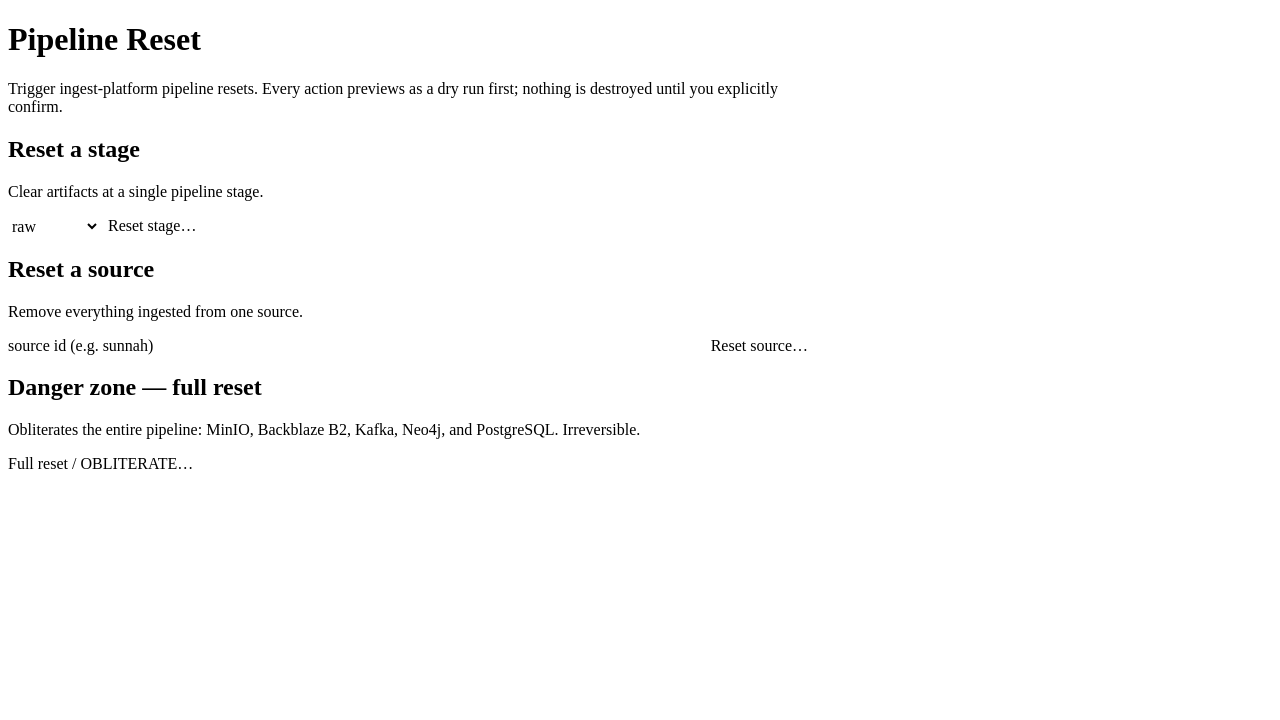
Test: ResetPage › keeps the OBLITERATE button disabled until the exact word is typed
Click the button "Full reset / OBLITERATE…" at x=101, y=464, box [8,455,193,473]
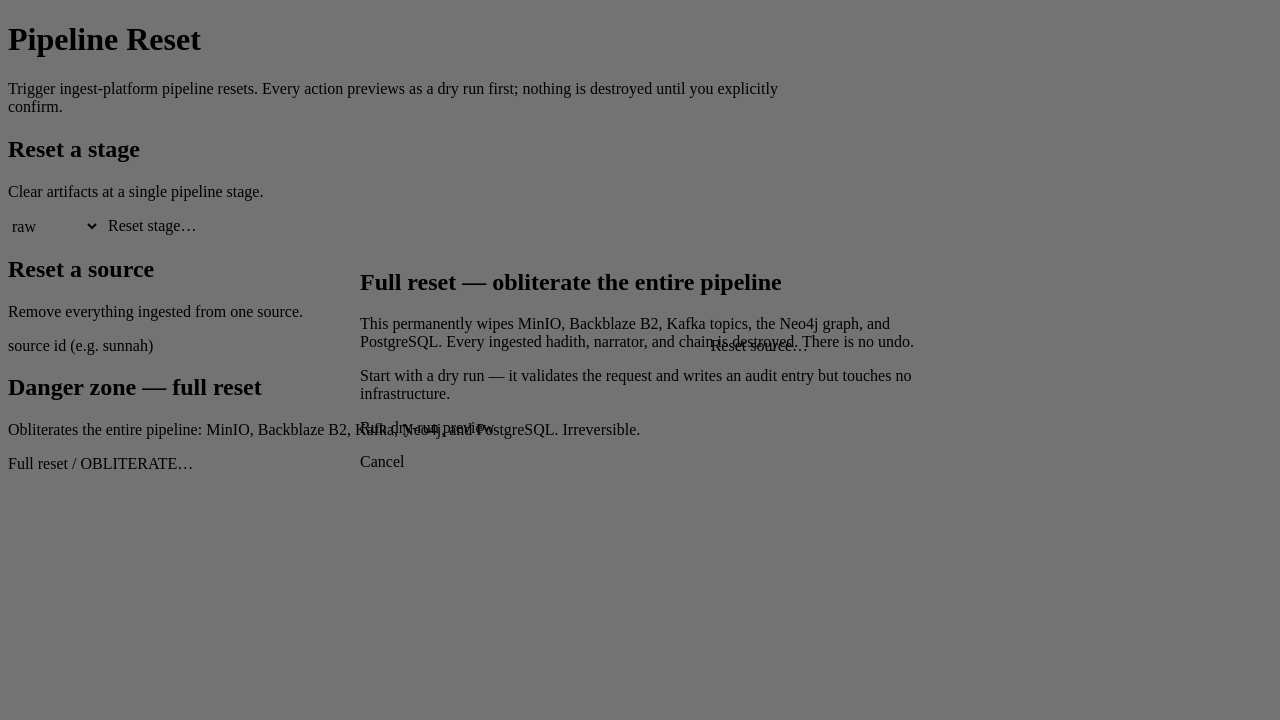
Click the button "Run dry-run preview" at x=427, y=428, box [360,419,494,437]
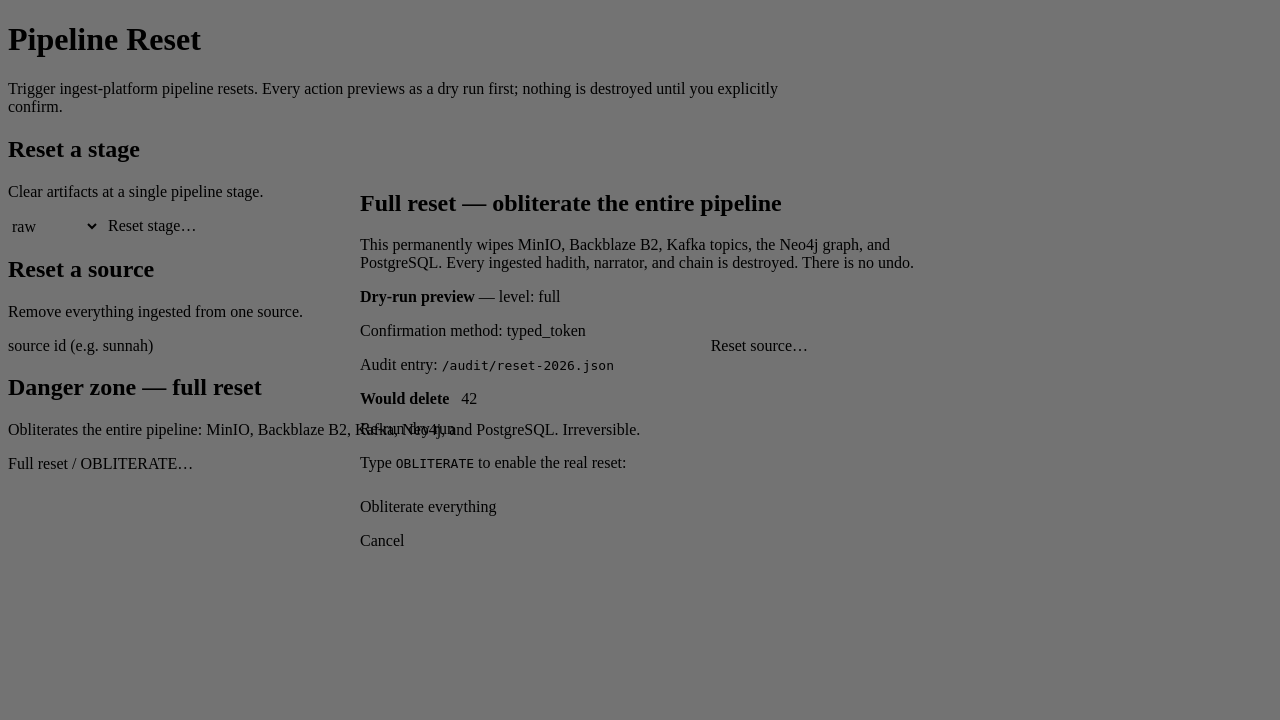
Check: the text "Dry-run preview" is shown, box [360,288,475,305]
Check: the button "Obliterate everything" is disabled, box [360,498,496,516]
Type "obliterate" into the field named "Type OBLITERATE to confirm" at x=640, y=481, box [360,472,920,490]
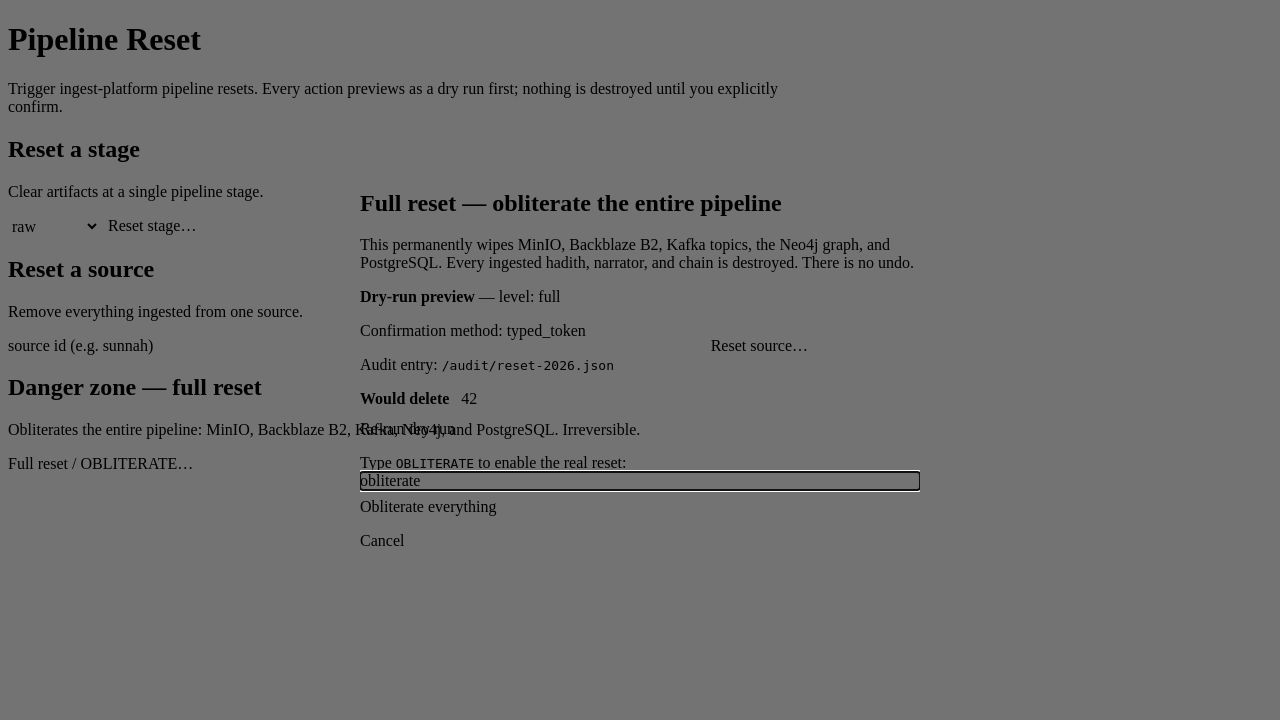
Check: the button "Obliterate everything" is disabled, box [360,498,496,516]
Replace the text in the field named "Type OBLITERATE to confirm" with "OBLITERATE" at x=640, y=481, box [360,472,920,490]
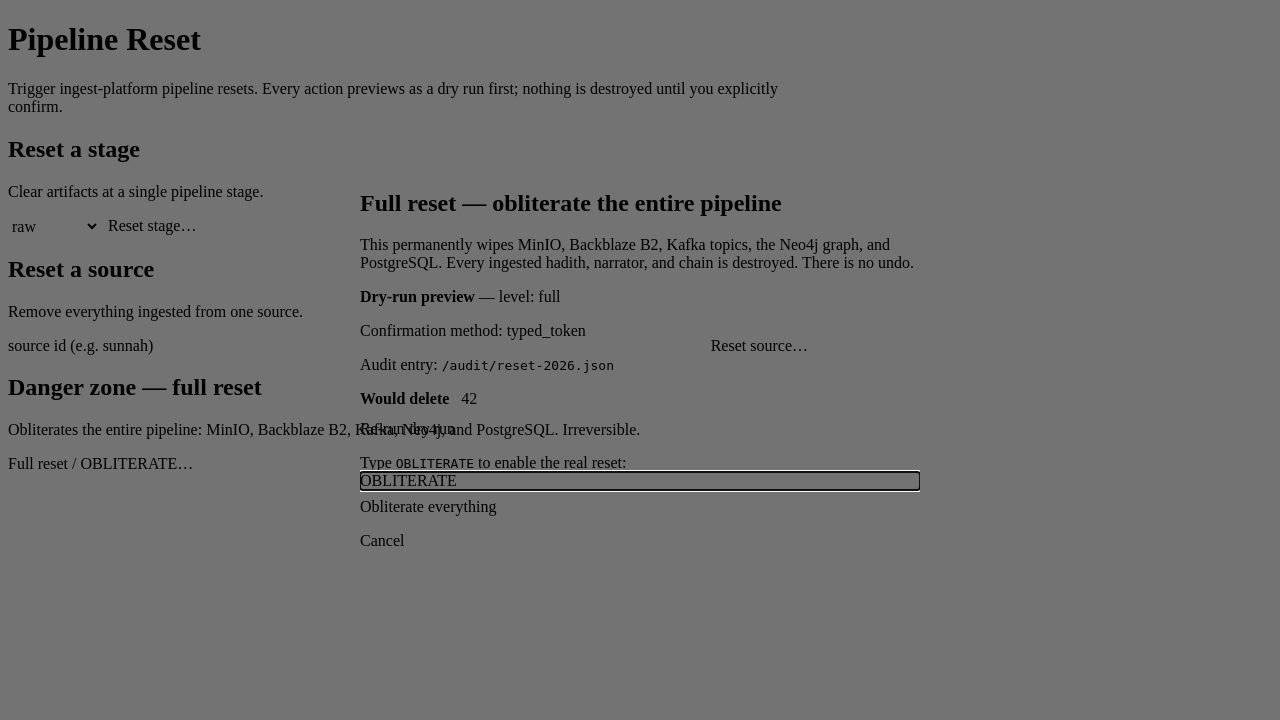
Click the button "Obliterate everything" at x=428, y=507, box [360,498,496,516]
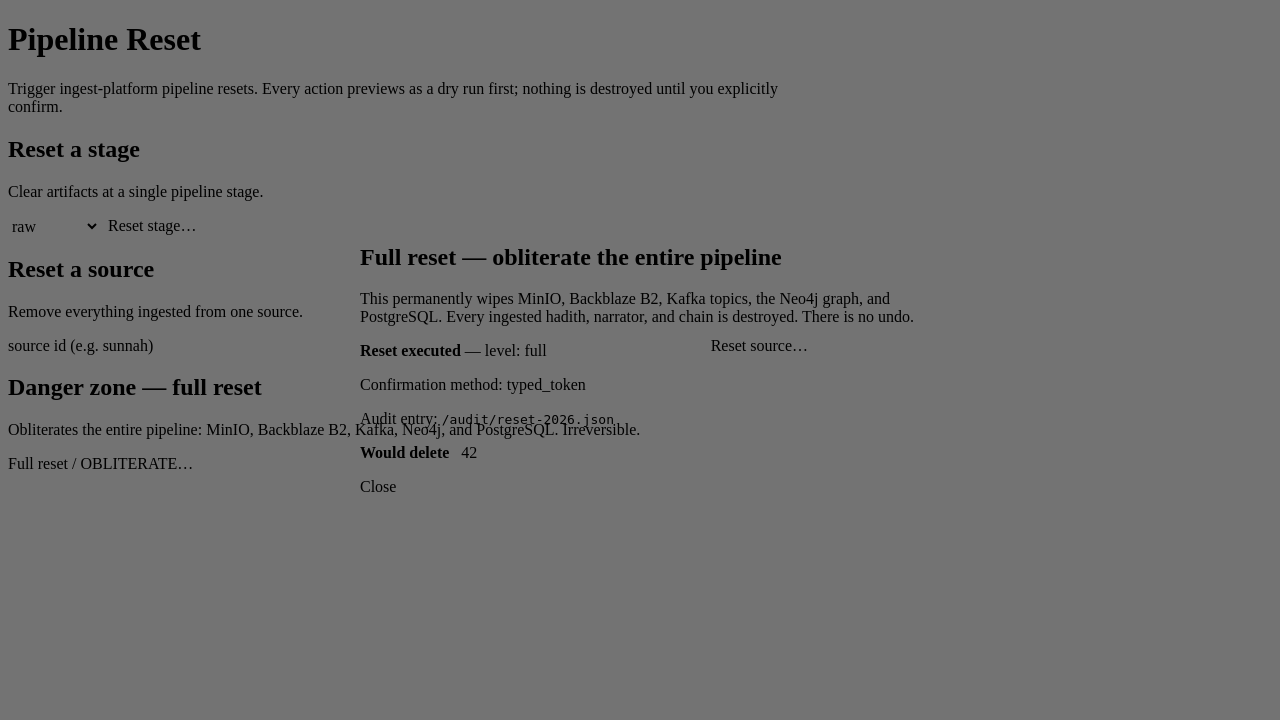
Check: the text "Reset executed" is shown, box [360,342,461,359]
